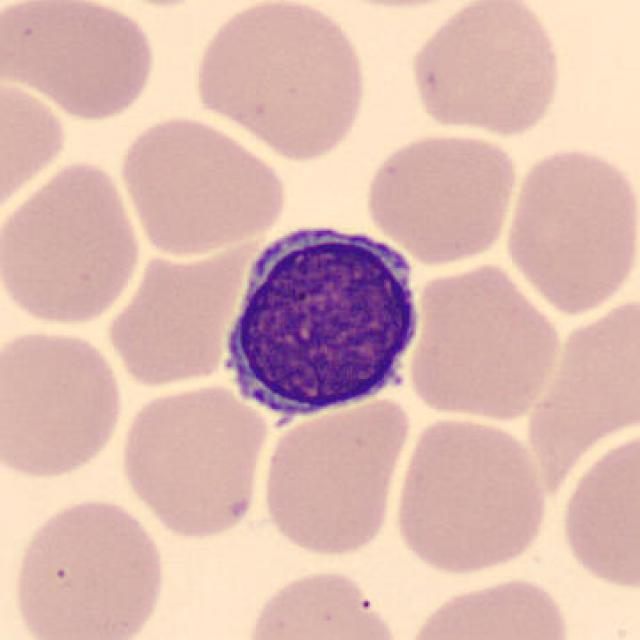Lymphocyte: (210, 210, 428, 432)
RBC: (188, 0, 372, 164), (389, 413, 551, 578), (404, 259, 566, 423), (256, 390, 412, 560), (114, 111, 290, 259), (0, 155, 146, 330), (116, 379, 272, 541), (500, 141, 638, 317), (7, 493, 169, 640), (405, 0, 567, 139), (522, 300, 640, 487), (361, 127, 519, 266), (103, 236, 240, 390), (0, 323, 128, 483), (2, 0, 160, 122), (556, 425, 640, 594), (242, 564, 405, 640), (400, 573, 576, 640), (0, 72, 71, 217)
